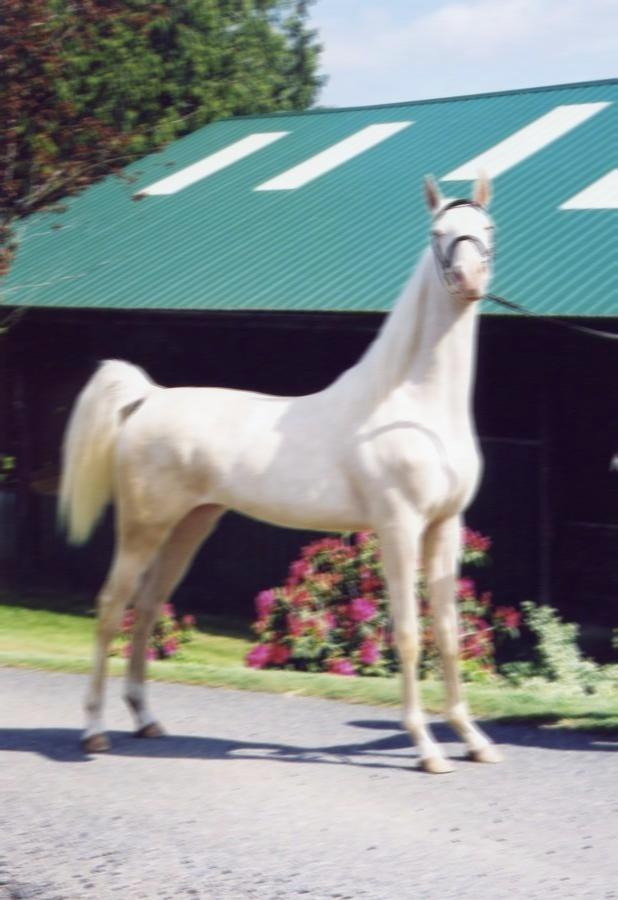horse: (56, 168, 505, 773)
